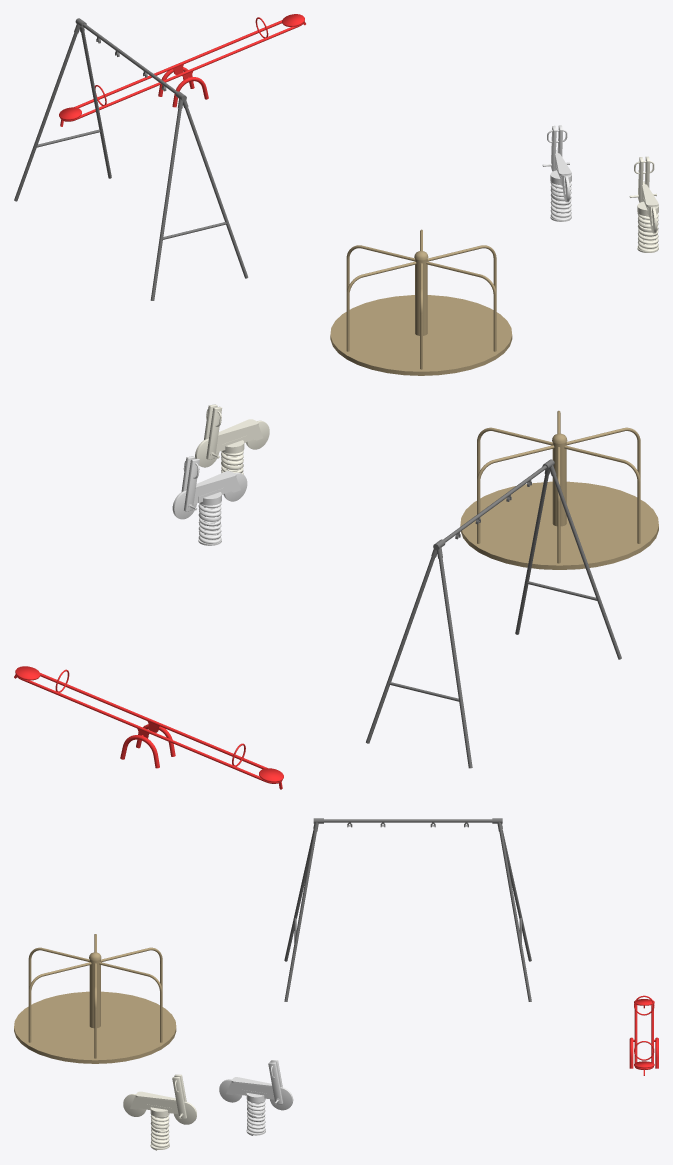
Rendered from SM_Park.fbx.
3 views of the same model, one above another, from view 1: azimuth 30°, elevation 25°; view 2: azimuth 150°, elevation 25°; view 3: azimuth 270°, elevation 25° (orthographic). The views are drawn at different scales.
Parts seen in each view (by area): view 1: rueda001, columpio, balancín doble, balancín individual-2, balancín individual-1; view 2: rueda001, columpio, balancín doble, balancín individual-2, balancín individual-1; view 3: rueda001, columpio, balancín individual-2, balancín individual-1, balancín doble.
Part boxes in pixels (x1,y1,x2,y2): rueda001: (330, 229, 512, 375); columpio: (14, 18, 248, 300); balancín doble: (59, 14, 305, 126); balancín individual-2: (542, 125, 571, 221); balancín individual-1: (629, 156, 658, 252); rueda001: (460, 410, 658, 569); columpio: (366, 459, 621, 768); balancín doble: (14, 666, 283, 789); balancín individual-2: (172, 456, 247, 545); balancín individual-1: (195, 404, 269, 474); rueda001: (14, 934, 176, 1063); columpio: (284, 818, 531, 1001); balancín individual-2: (219, 1060, 293, 1135); balancín individual-1: (123, 1074, 196, 1150); balancín doble: (629, 995, 658, 1075).
Bounding box in the file's own units: 5.66 × 2.23 × 7.93.
